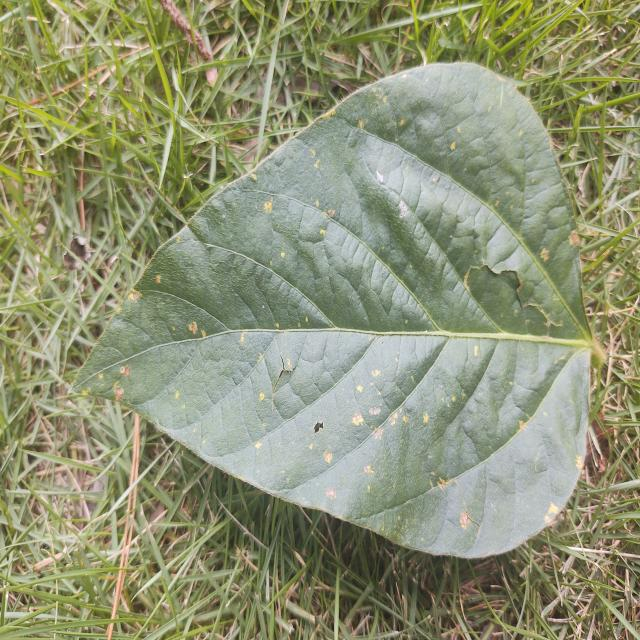Soybean: (76, 61, 593, 563)
downey_mildew: (74, 318, 353, 461), (293, 364, 442, 546), (212, 147, 351, 324), (383, 194, 525, 339), (348, 124, 453, 319), (136, 225, 287, 331), (457, 216, 591, 334), (302, 161, 399, 320), (425, 170, 513, 321), (417, 338, 503, 475), (72, 304, 199, 392), (496, 343, 590, 460), (277, 332, 377, 417), (328, 65, 413, 154), (273, 182, 335, 287), (144, 341, 217, 427), (357, 233, 419, 323), (423, 461, 481, 552), (385, 476, 453, 553), (272, 331, 318, 377)
